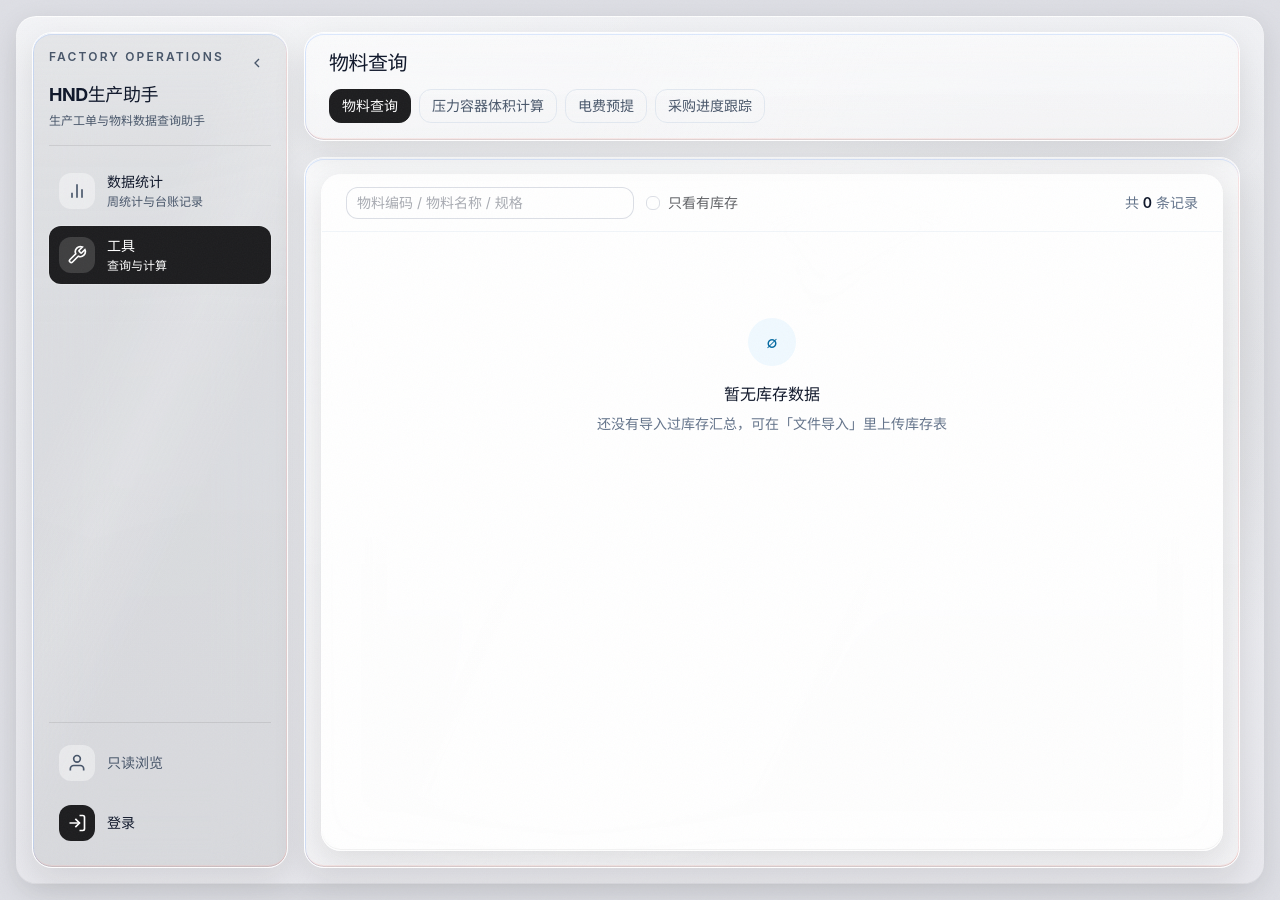
Test: WorkOrderList 页面冒烟 › 月底储罐液位记录：进入 Tab 走接口，表格按台账列渲染返回行
Click the button "数据统计 周统计与台账记录" at (160, 191), box [49,162,271,220]
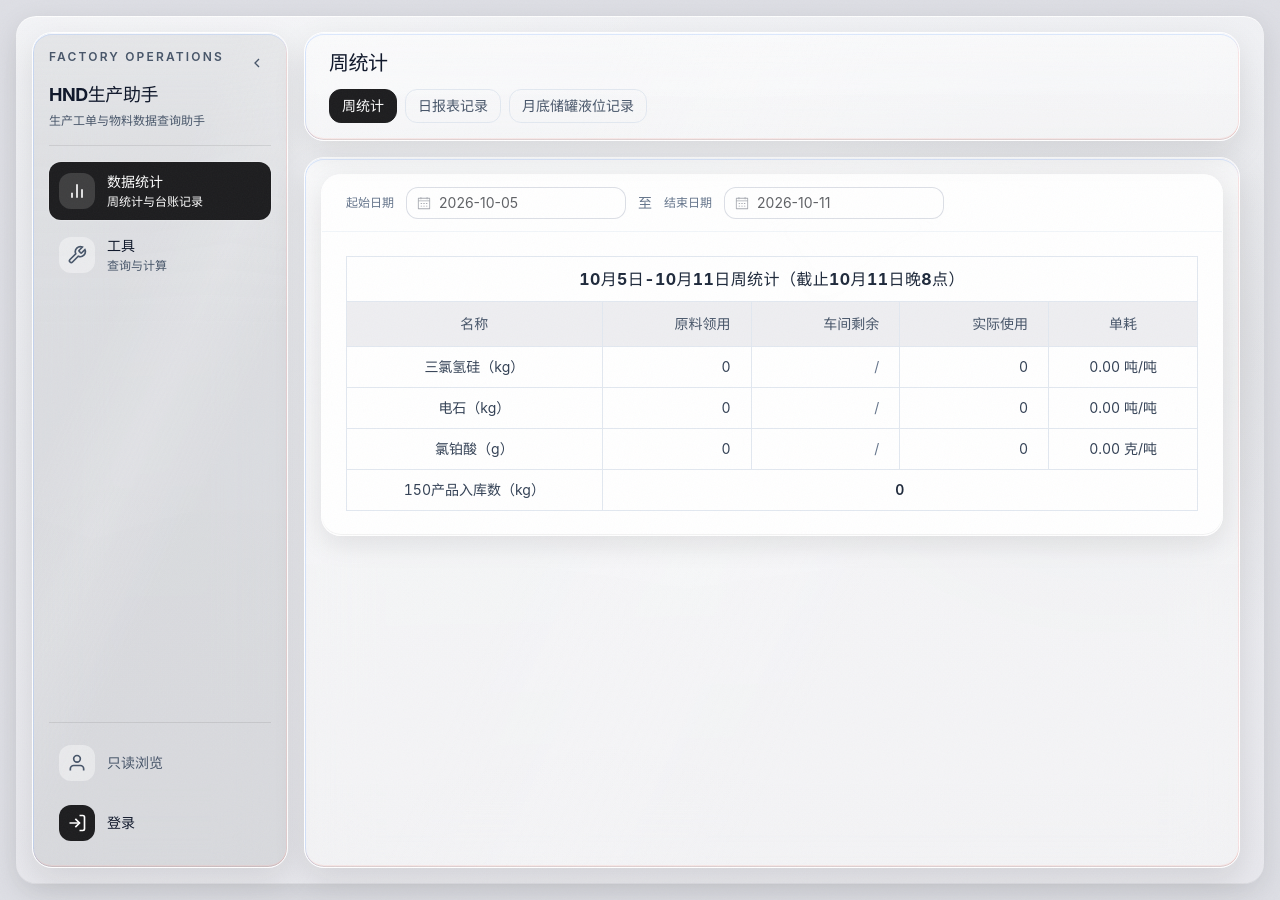
Click the button "月底储罐液位记录" at (578, 106), box [509,89,647,123]
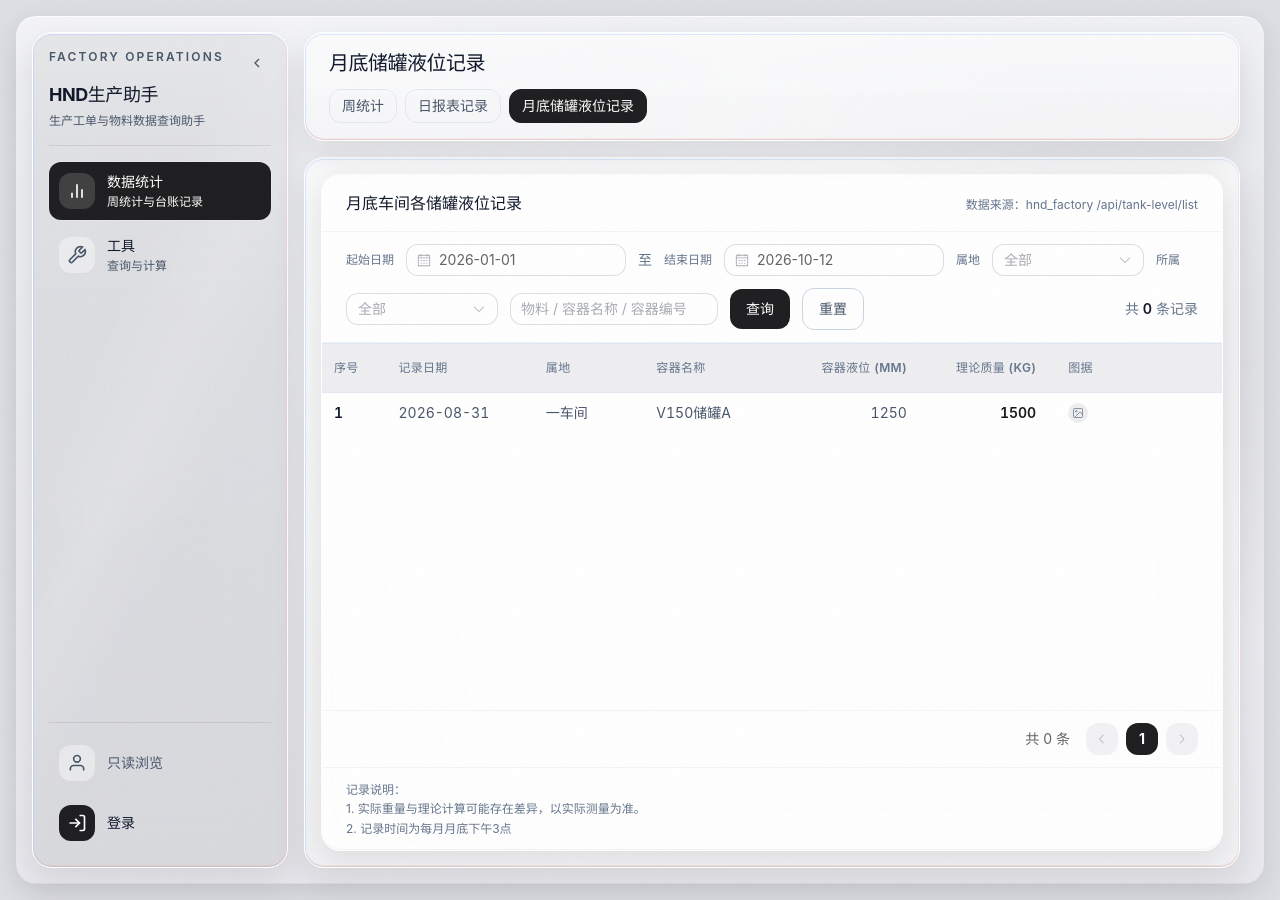
expect the text "月底车间各储罐液位记录" is shown: met, box [346,191,522,215]
expect the text "记录日期" is shown: met, box [386,344,534,392]
expect the text "属地" is shown: met, box [956,252,980,268]
